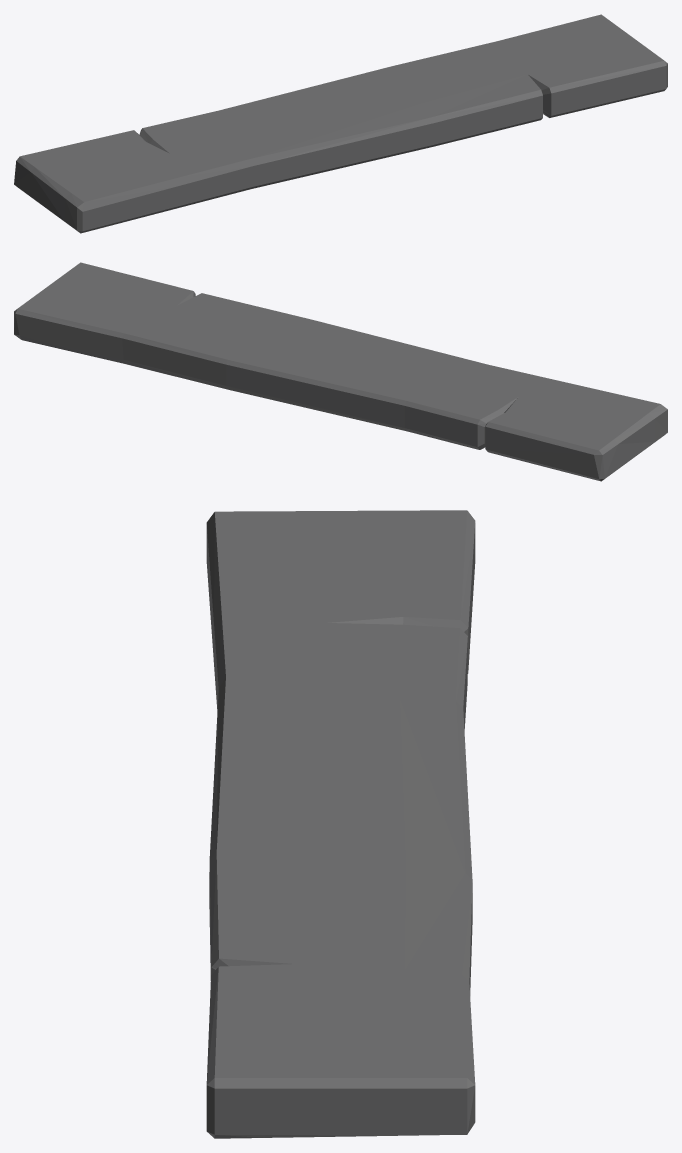
File: Stone_Slab.glb
3 renders of one model, top to bottom at view 1: azimuth 30°, elevation 25°; view 2: azimuth 150°, elevation 25°; view 3: azimuth 270°, elevation 25°, orthographic. The views are drawn at different scales.
Size of the model in its own units: 81.27 by 4 by 16.
1 material, 1 textured.
